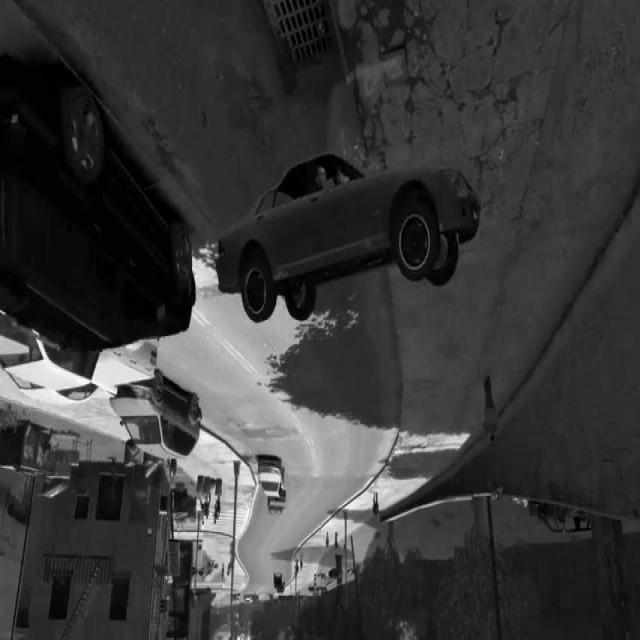severe: (209, 145, 483, 335)
